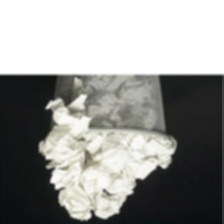tissue: (33, 74, 181, 224)
